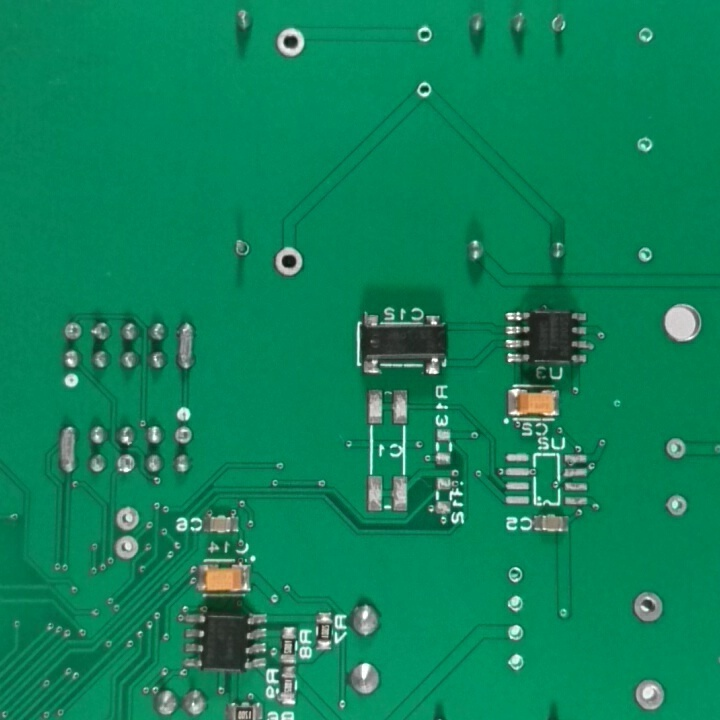F: (630, 674, 672, 715), (630, 586, 669, 625), (271, 23, 310, 60), (270, 242, 306, 280), (662, 492, 693, 520), (111, 537, 142, 564), (114, 503, 142, 532), (59, 318, 84, 347), (504, 620, 530, 646), (502, 564, 529, 589), (110, 453, 138, 477), (664, 433, 687, 462), (170, 424, 196, 449), (411, 20, 436, 46), (230, 235, 253, 263), (547, 12, 572, 36), (504, 593, 527, 617), (412, 78, 436, 101), (506, 649, 527, 675), (634, 134, 656, 157), (633, 245, 656, 265), (636, 25, 656, 46)
P: (174, 317, 200, 375), (56, 421, 80, 478)
